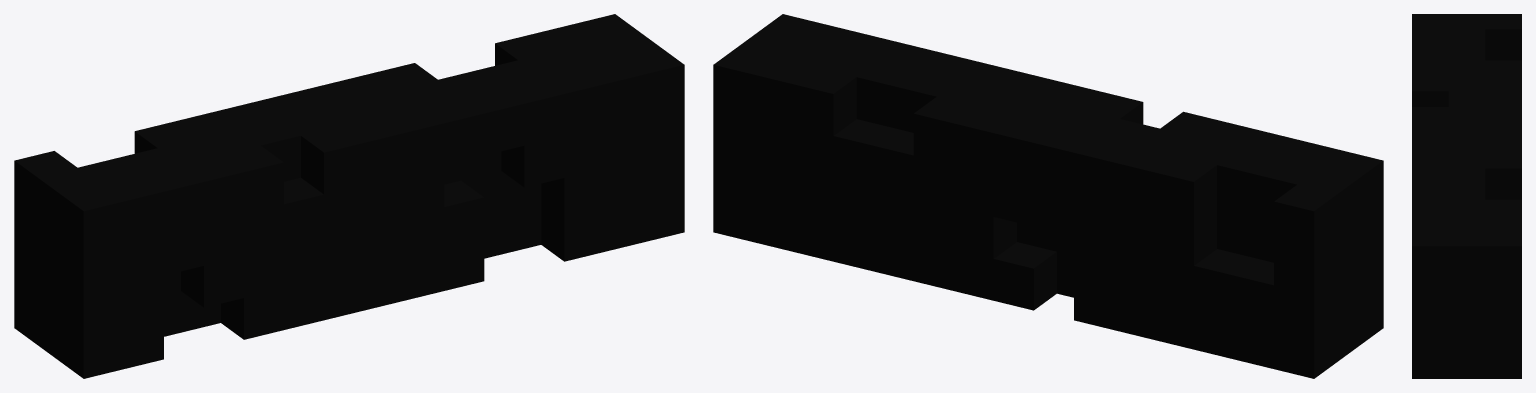
The model's file is church-71-gy_wallbase.glb.
3 renders of one model, left to right at view 1: azimuth 30°, elevation 25°; view 2: azimuth 150°, elevation 25°; view 3: azimuth 270°, elevation 25°, orthographic. The views are drawn at different scales.
Parts seen in each view (by area): view 1: gy_wallbase; view 2: gy_wallbase; view 3: gy_wallbase.
Boxes of the visible parts, <box> form: gy_wallbase: <box>14,14,684,378</box>; gy_wallbase: <box>713,14,1383,378</box>; gy_wallbase: <box>1412,14,1521,378</box>.
Size of the model in its own units: 1.5 by 0.4 by 0.3.
1 material, 1 textured.
